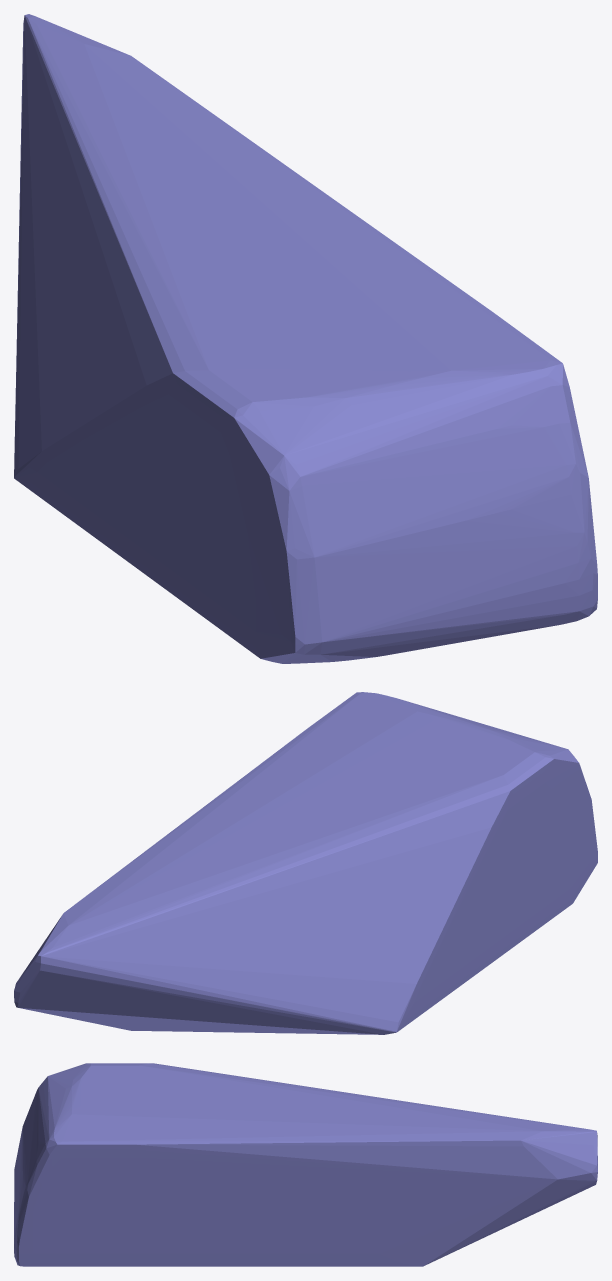
Rendered from left-hip-roll-0_part_12.obj.
The picture shows the model from 3 angles, top to bottom: view 1: azimuth 30°, elevation 25°; view 2: azimuth 150°, elevation 25°; view 3: azimuth 270°, elevation 25°; orthographic projection. The views are drawn at different scales.
Size of the model in its own units: 0.0268 by 0.02 by 0.0814.
